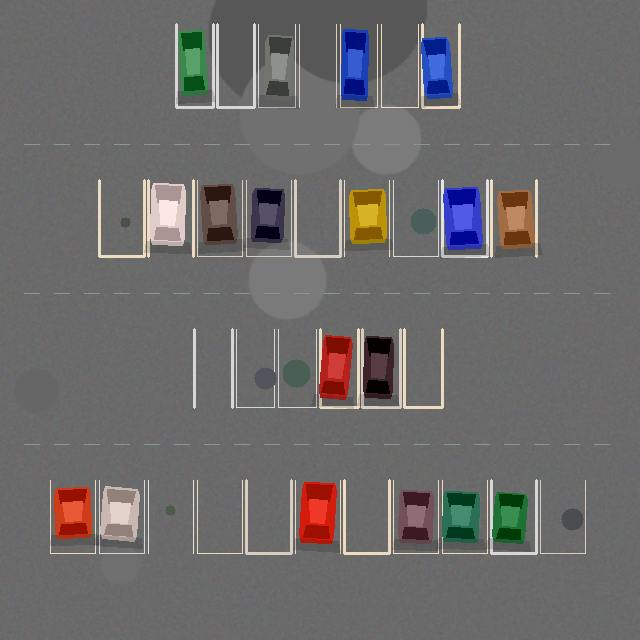space-empty: (99, 180, 144, 256), (295, 180, 340, 256), (393, 180, 438, 256), (148, 480, 193, 553), (197, 480, 242, 553), (246, 480, 291, 553), (344, 480, 389, 553), (540, 480, 585, 553), (217, 24, 254, 107), (299, 24, 336, 107), (381, 24, 418, 107), (194, 329, 232, 407), (236, 329, 274, 407), (278, 329, 316, 407), (404, 329, 442, 407)
space-occupied: (148, 180, 193, 256), (197, 180, 242, 256), (246, 180, 291, 256), (344, 180, 389, 256), (442, 180, 487, 256), (491, 180, 536, 256), (50, 480, 95, 553), (99, 480, 144, 553), (295, 480, 340, 553), (393, 480, 438, 553), (442, 480, 487, 553), (491, 480, 536, 553), (176, 24, 213, 107), (258, 24, 295, 107), (340, 24, 377, 107), (422, 24, 459, 107), (320, 329, 358, 407), (362, 329, 400, 407)
